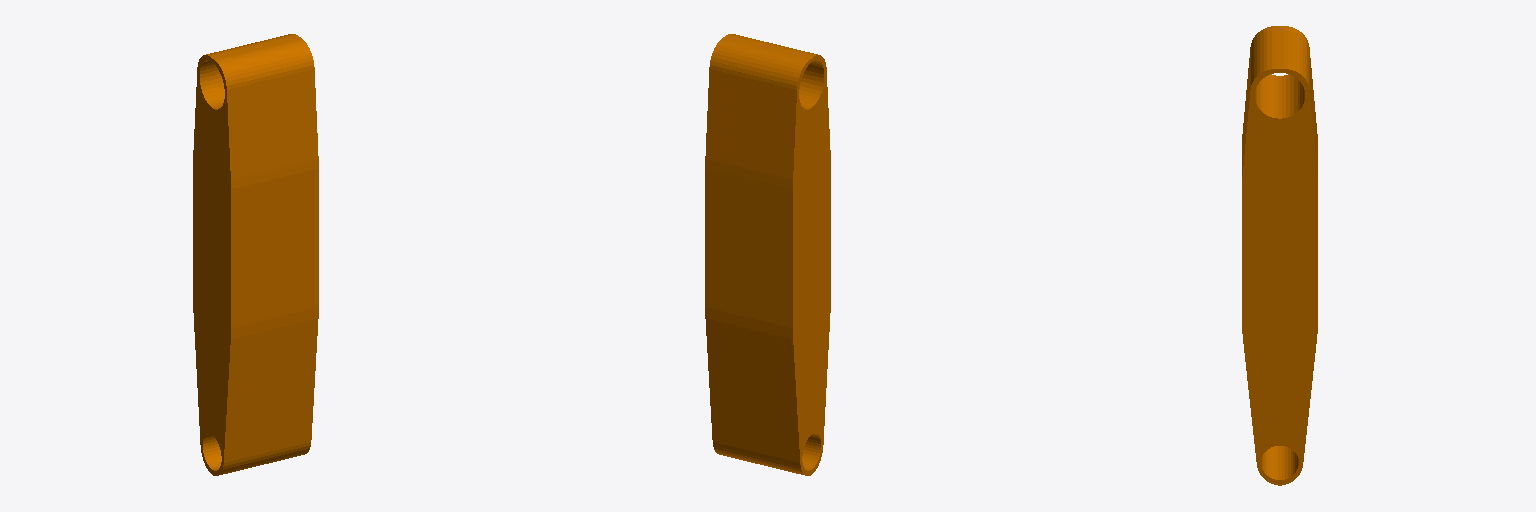
Rendered from r_up_sus.obj.
The picture shows the model from 3 angles: view 1: azimuth 30°, elevation 25°; view 2: azimuth 150°, elevation 25°; view 3: azimuth 270°, elevation 25°; orthographic projection.
Visible parts, largest first — view 1: viper_R_up_sus; view 2: viper_R_up_sus; view 3: viper_R_up_sus.
Part boxes in pixels (bbox=[...]): viper_R_up_sus: bbox=[193, 34, 318, 475]; viper_R_up_sus: bbox=[705, 34, 830, 475]; viper_R_up_sus: bbox=[1242, 26, 1317, 485].
Size of the model in its own units: 0.08 by 0.3633 by 0.06.